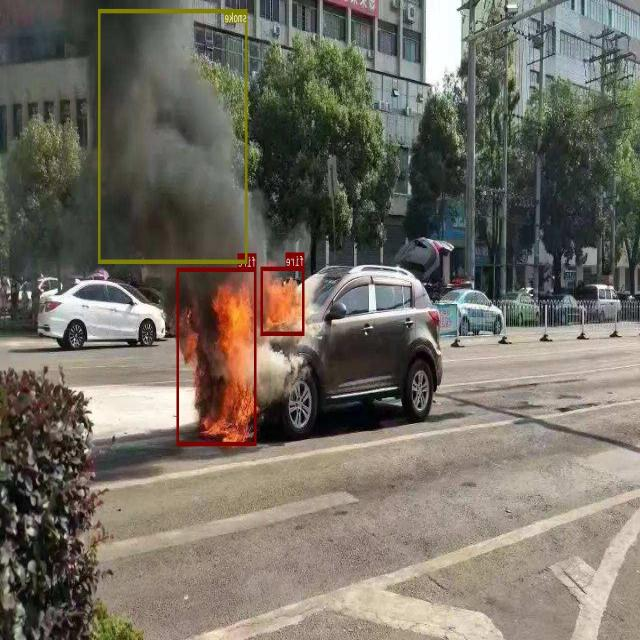fire: (177, 267, 257, 445), (261, 266, 305, 334)
smoke: (99, 9, 248, 263)
